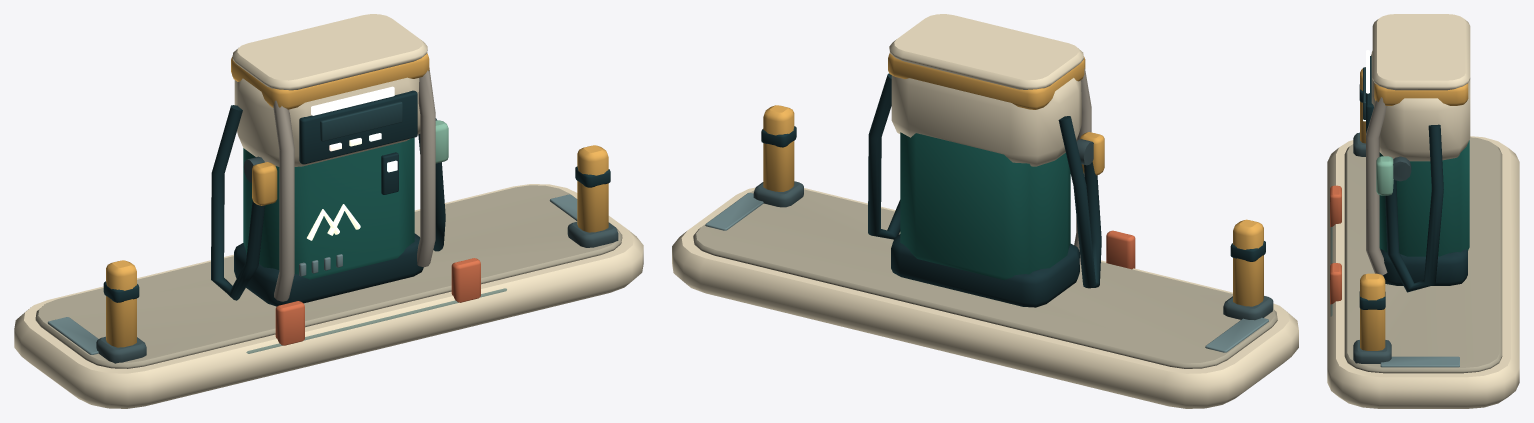
File: island.glb
The picture shows the model from 3 angles, left to right: view 1: azimuth 30°, elevation 25°; view 2: azimuth 150°, elevation 25°; view 3: azimuth 270°, elevation 25°; orthographic projection. The views are drawn at different scales.
Parts seen in each view (by area): view 1: Island; view 2: Island; view 3: Island.
Part boxes in pixels (bbox=[...]): Island: bbox=[14, 14, 643, 408]; Island: bbox=[672, 14, 1298, 408]; Island: bbox=[1327, 14, 1519, 408].
Bounding box in the file's own units: 3.7 × 1.67 × 1.21.
